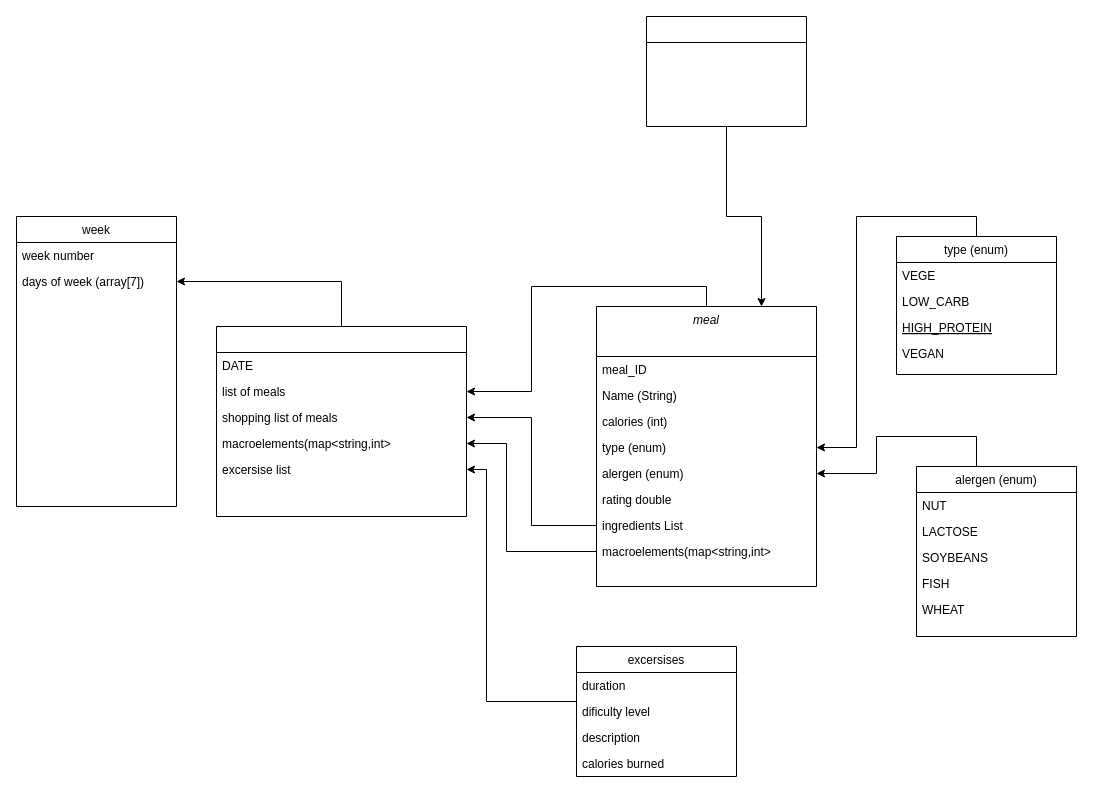
This 1093x793 diagram has some shape labels left out. The shapes that lost their labels are listed below. From the top down, each one's box as (x1, y1, x2, y2) in pixels, then its label:
(646, 16, 806, 126): API
(216, 326, 466, 516): meals of day
